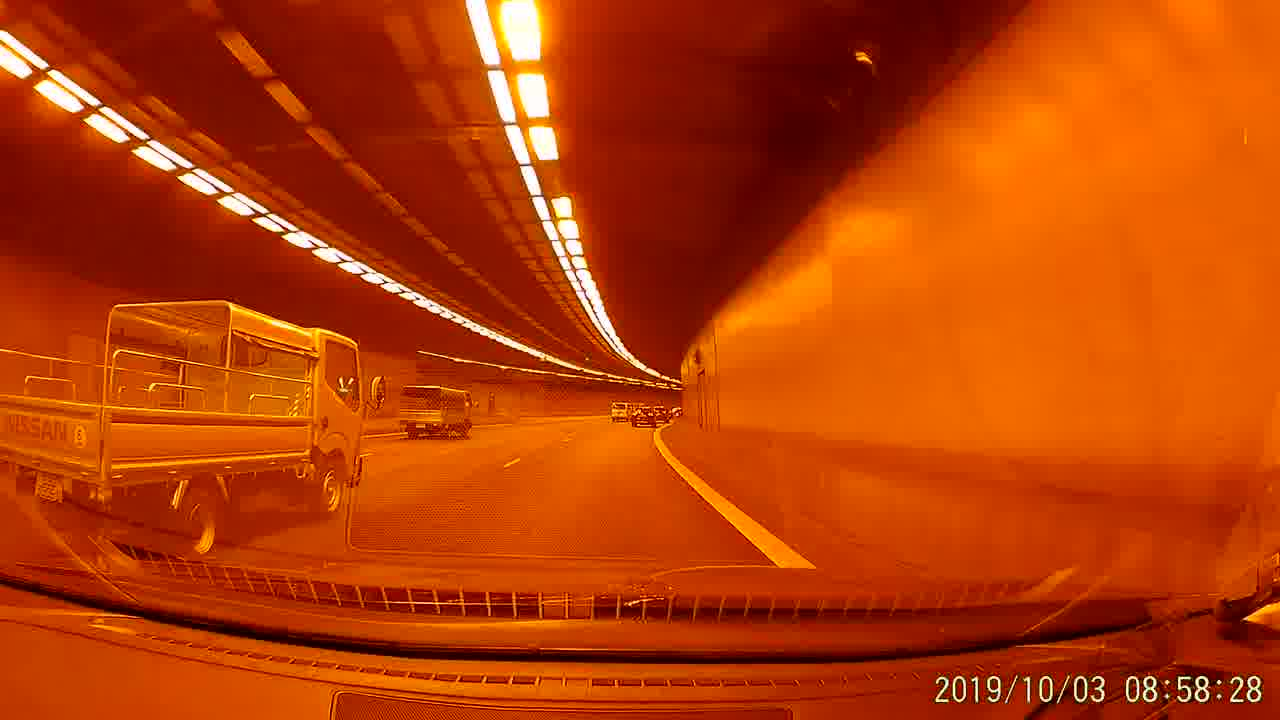car: (628, 404, 657, 428), (651, 406, 668, 424)
